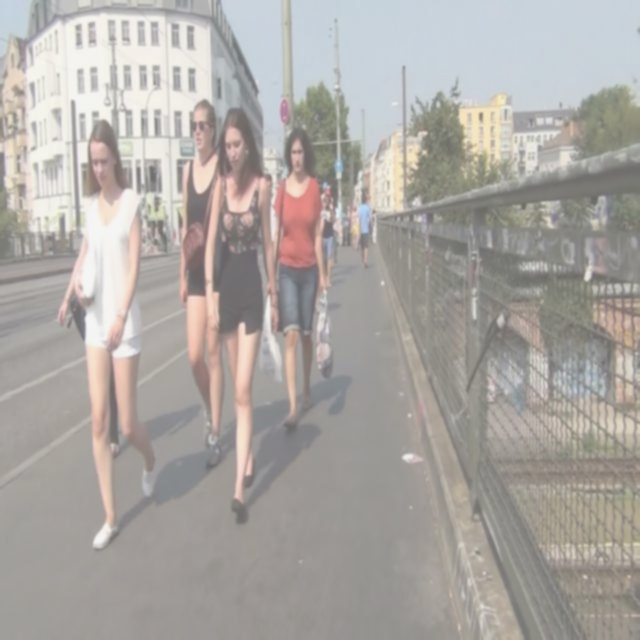pessoa: (54, 116, 157, 554), (202, 106, 280, 526), (258, 124, 336, 433), (64, 146, 135, 460), (179, 98, 224, 470), (141, 212, 183, 258), (319, 188, 336, 288), (356, 191, 374, 269), (262, 171, 277, 245), (330, 194, 339, 268), (351, 202, 358, 251), (320, 181, 334, 205), (369, 208, 378, 244)
